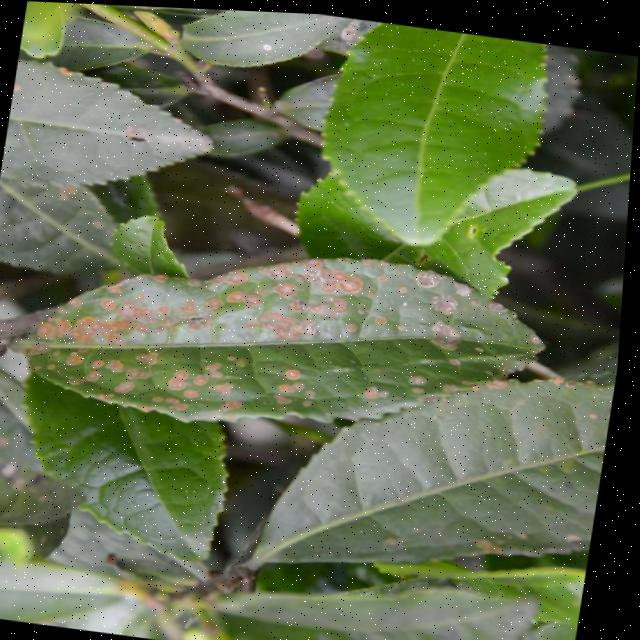Tea algae leaf spot: (51, 226, 531, 454)
